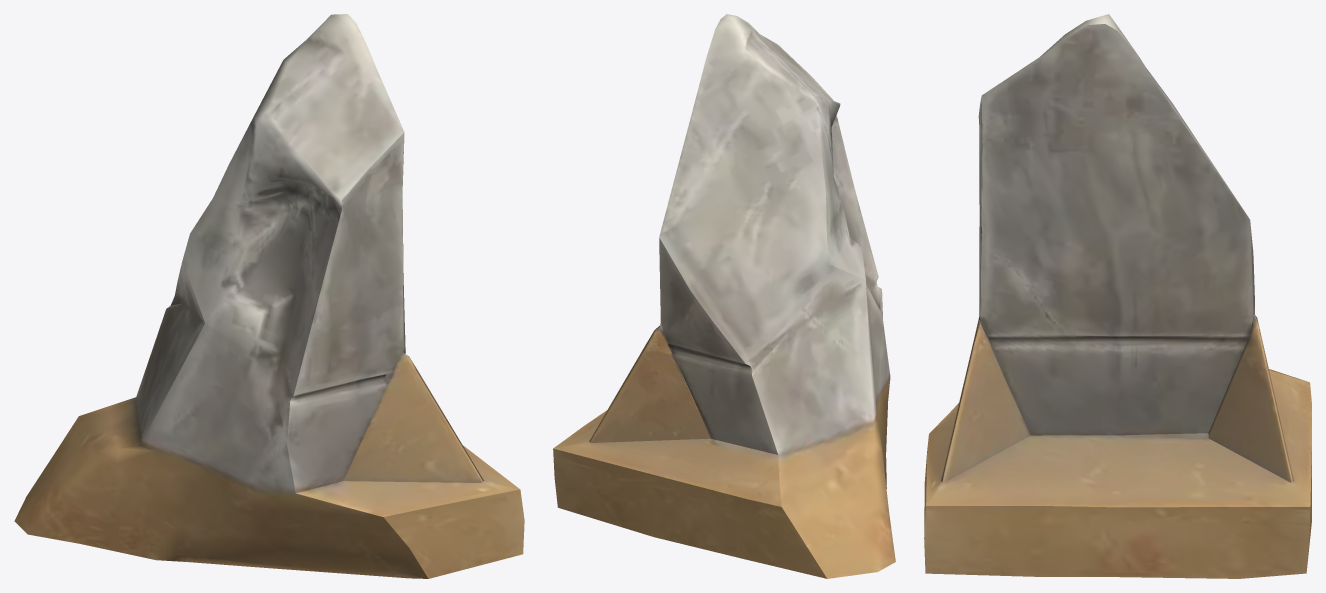
The picture shows the model from 3 angles, left to right: view 1: azimuth 30°, elevation 25°; view 2: azimuth 150°, elevation 25°; view 3: azimuth 270°, elevation 25°; orthographic projection. The views are drawn at different scales.
Visible parts, largest first — view 1: SM_Vault_Guardian_Ranged_01_SM_VGR_Base05_LOD0; view 2: SM_Vault_Guardian_Ranged_01_SM_VGR_Base05_LOD0; view 3: SM_Vault_Guardian_Ranged_01_SM_VGR_Base05_LOD0.
Part boxes in pixels (x1,y1,x2,y2): SM_Vault_Guardian_Ranged_01_SM_VGR_Base05_LOD0: (14,14,524,578); SM_Vault_Guardian_Ranged_01_SM_VGR_Base05_LOD0: (553,14,895,578); SM_Vault_Guardian_Ranged_01_SM_VGR_Base05_LOD0: (924,14,1311,578).
Size of the model in its own units: 0.6114 by 0.8528 by 0.5794.
Materials: 1 (1 with a texture image).
